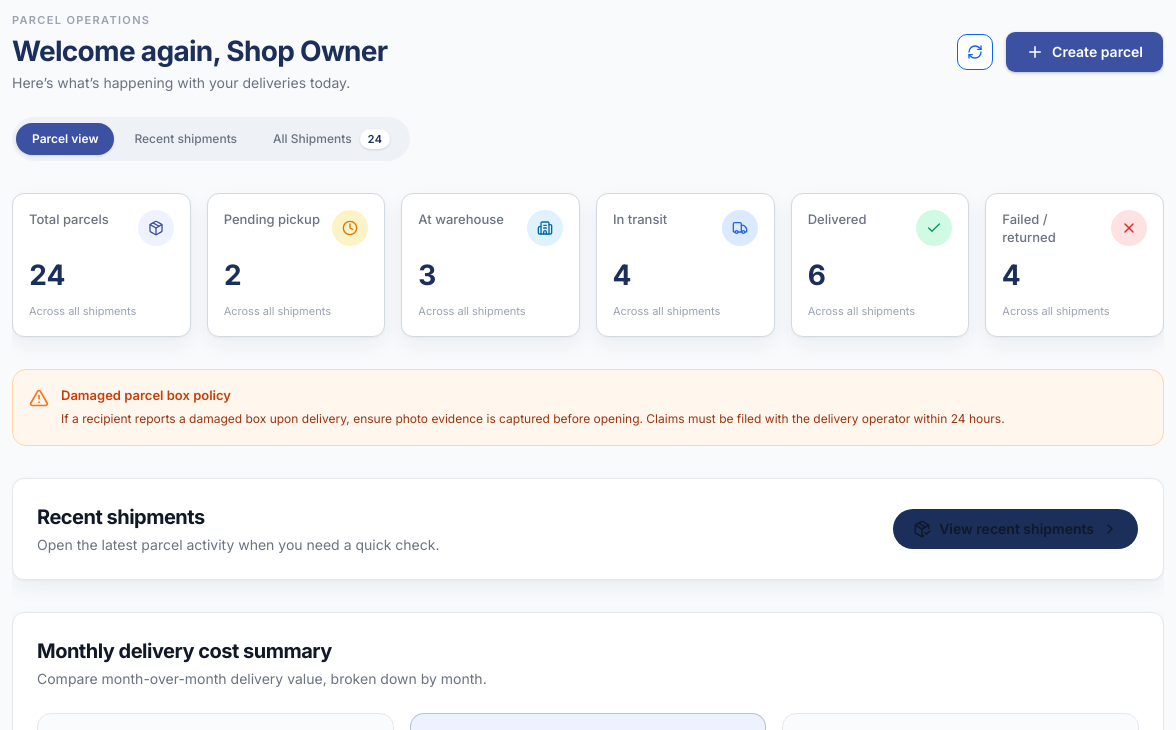
SME dashboard › shows the full shipment list inside the dashboard tab
Expected: the heading "Welcome again, Shop Owner" is shown, [12,32,387,68]
Click the button "All Shipments 24" at (332, 138), box [257,120,406,156]
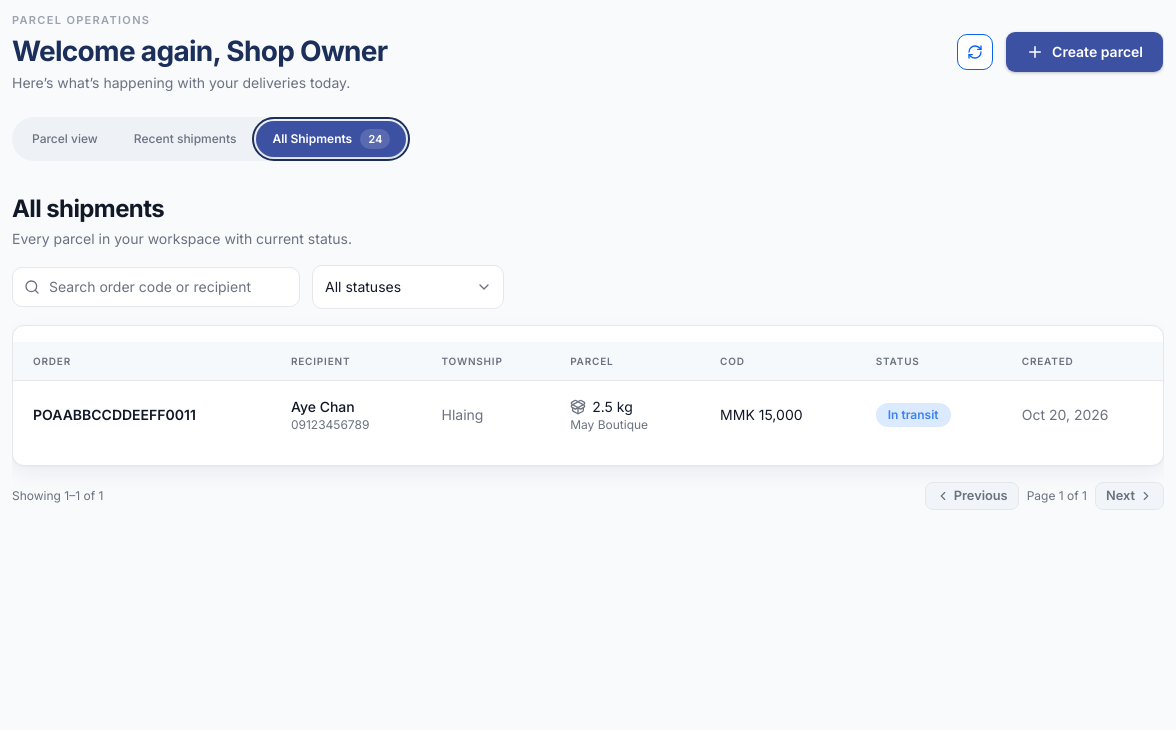
Expected: the heading "All shipments" is shown, [12,194,164,222]
Result: the column heading "POAABBCCDDEEFF0011" is shown at [13,380,271,448]
